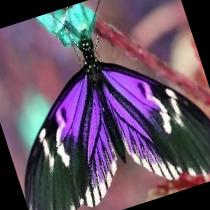butterfly: (25, 37, 210, 210)
